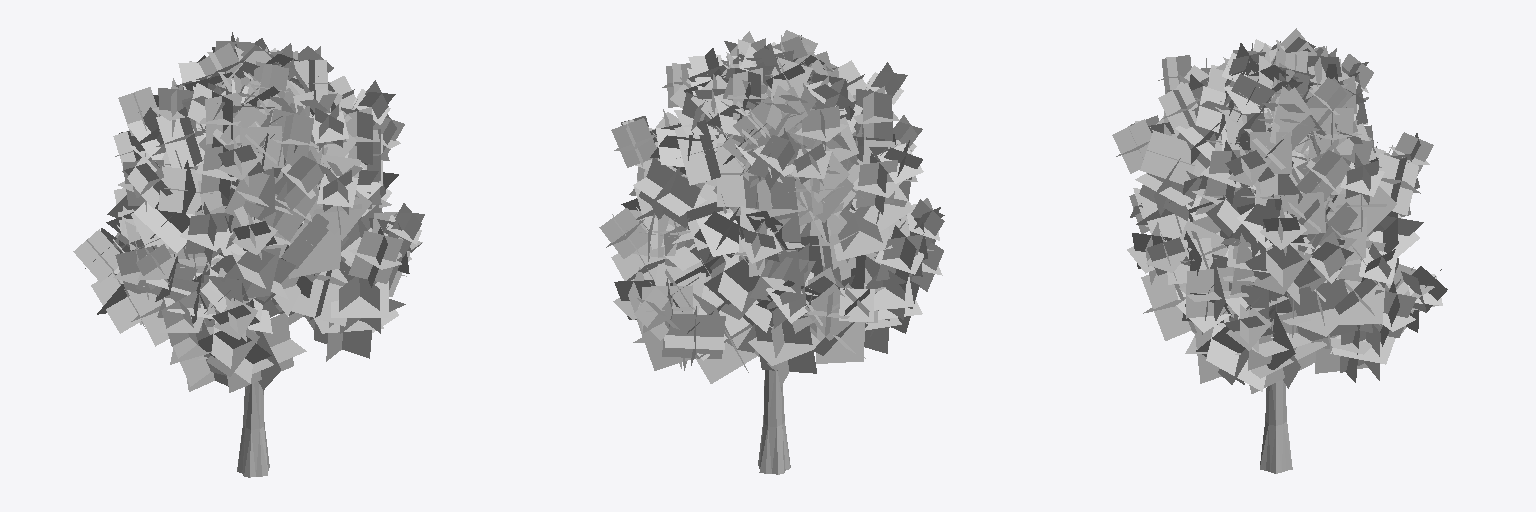
File: oak_tree.obj
The picture shows the model from 3 angles: view 1: azimuth 30°, elevation 25°; view 2: azimuth 150°, elevation 25°; view 3: azimuth 270°, elevation 25°; orthographic projection.
Parts seen in each view (by area): view 1: tree6; view 2: tree6; view 3: tree6.
Part boxes in pixels (bbox=[...]): tree6: bbox=[73, 32, 424, 477]; tree6: bbox=[599, 30, 944, 474]; tree6: bbox=[1112, 28, 1447, 473].
Size of the model in its own units: 5.8 by 7.93 by 5.69.